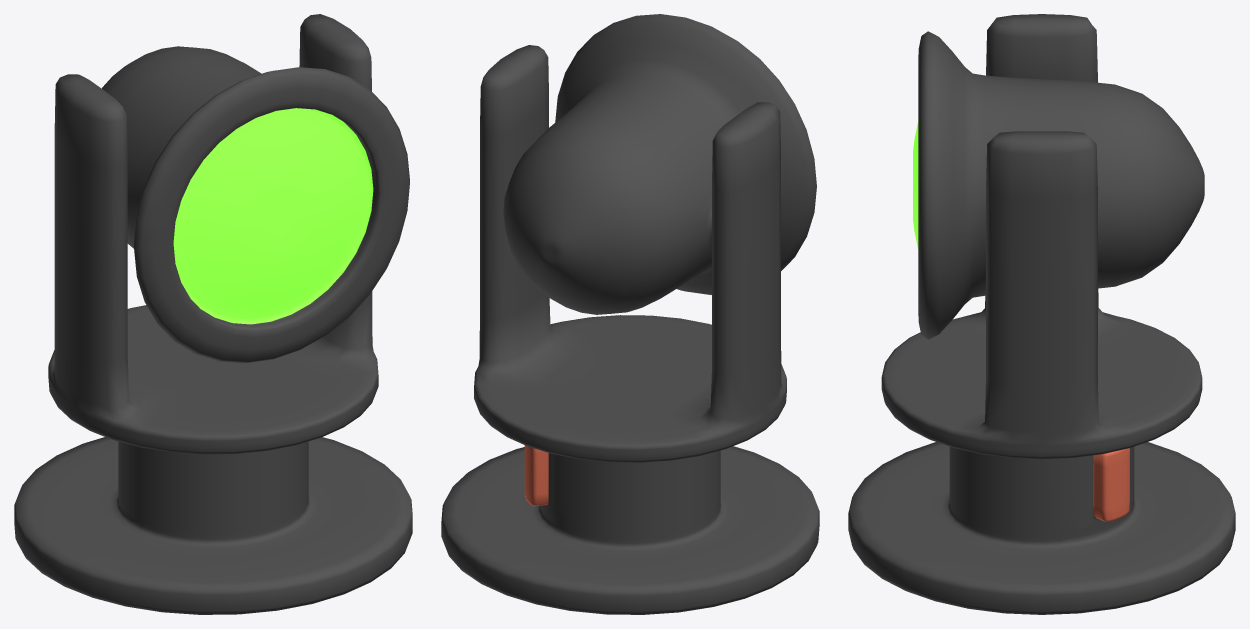
The model's file is AlgaeLight.fbx.
The picture shows the model from 3 angles, left to right: view 1: azimuth 30°, elevation 25°; view 2: azimuth 150°, elevation 25°; view 3: azimuth 270°, elevation 25°; orthographic projection. The views are drawn at different scales.
Visible parts, largest first — view 1: LampSupport, Lamp; view 2: LampSupport, Lamp; view 3: LampSupport, Lamp.
Boxes of the visible parts, box(x1,y1,x2,y2) form: LampSupport: box(14, 14, 412, 614); Lamp: box(102, 46, 409, 363); LampSupport: box(441, 45, 819, 614); Lamp: box(503, 14, 816, 314); LampSupport: box(848, 14, 1235, 614); Lamp: box(913, 31, 1204, 339).
Bounding box in the file's own units: 148 × 206 × 148.
